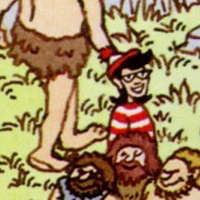wenda: (108, 47, 153, 103)
